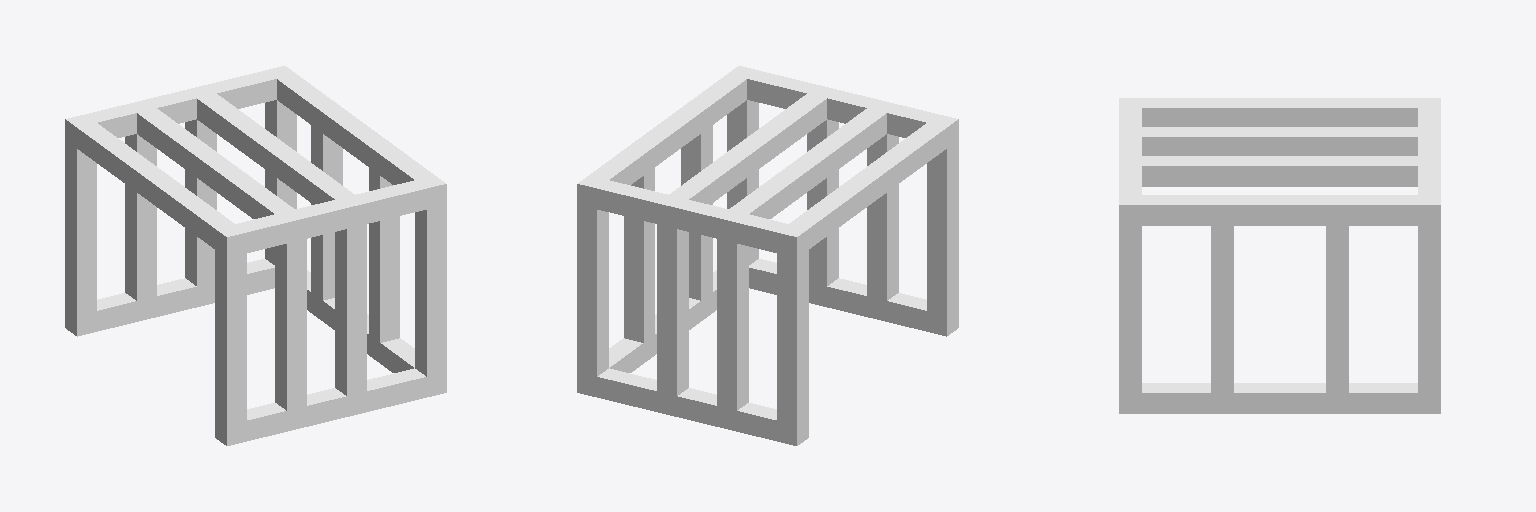
Rendered from Jaula.obj.
3 renders of one model, left to right at view 1: azimuth 30°, elevation 25°; view 2: azimuth 150°, elevation 25°; view 3: azimuth 270°, elevation 25°, orthographic.
Parts seen in each view (by area): view 1: object 1; view 2: object 1; view 3: object 1.
Boxes of the visible parts, box(x1,y1,x2,y2) form: object 1: box(65, 66, 446, 445); object 1: box(577, 66, 958, 445); object 1: box(1119, 98, 1440, 413).
Bounding box in the file's own units: 1.1 × 1 × 1.4.